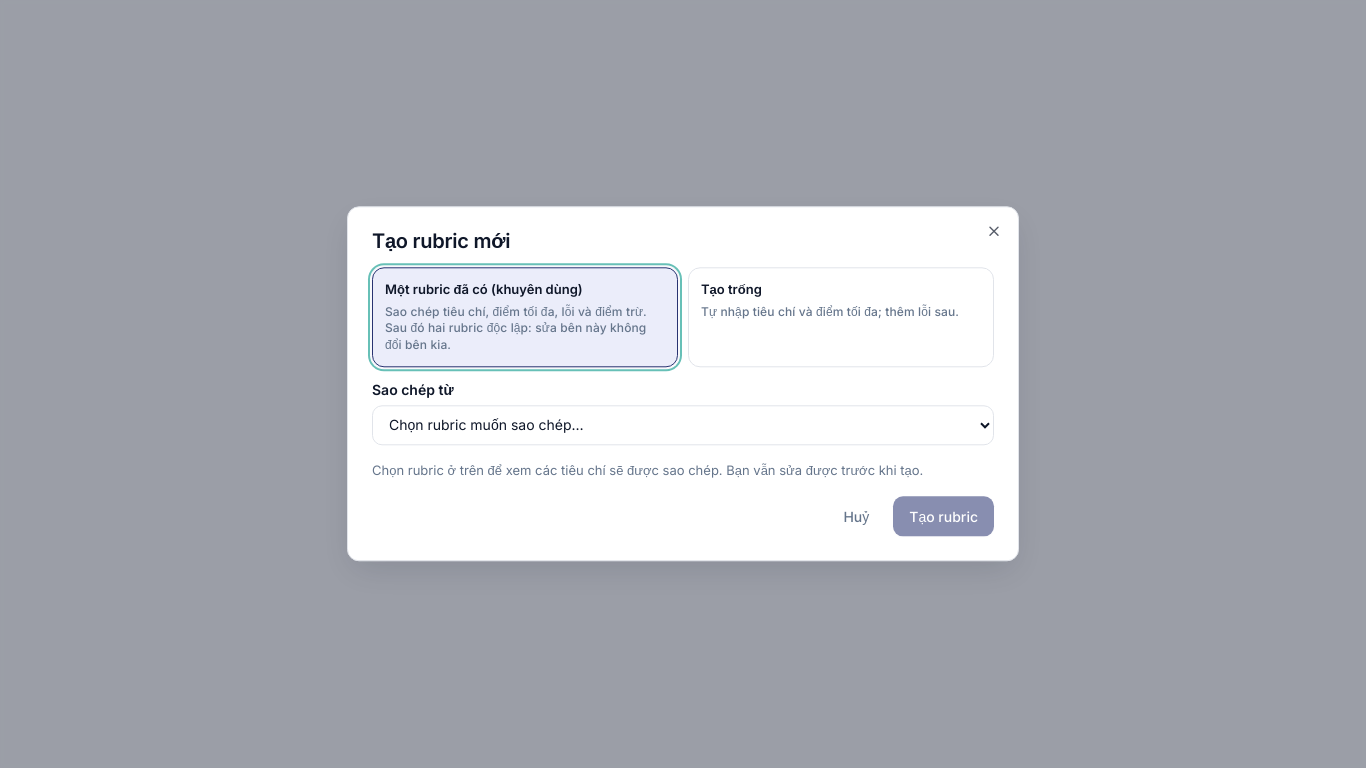
Test: RubricDialog — tạo rubric mới › đã có rubric khác: sao chép (D3) › chọn "Tạo trống": bỏ ô nguồn, bảng tiêu chí trống, hiện chọn môn học
This screenshot has width=1366, height=768.
Click the button "Tạo trống Tự nhập tiêu chí và điểm tối đa; thêm lỗi sau." at (841, 317), box [688,267,994,367]
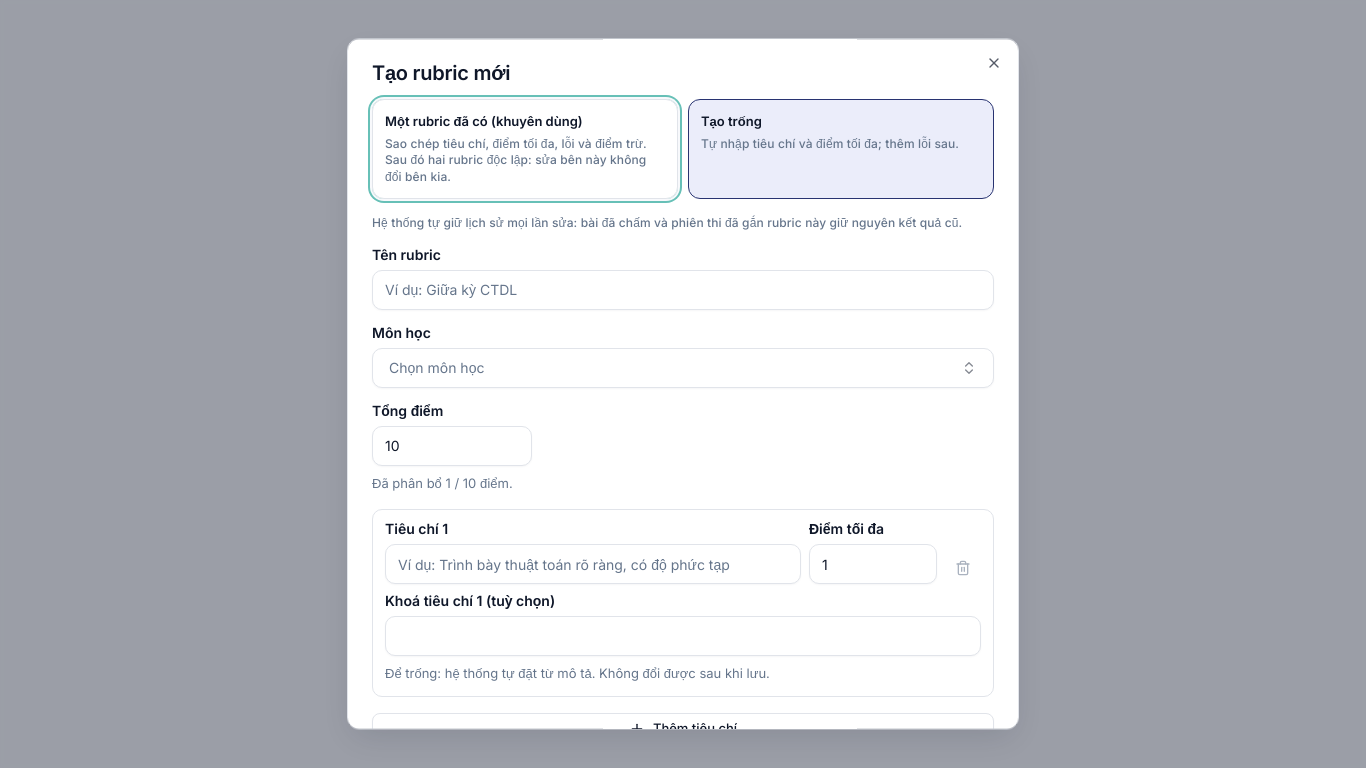
Now the label labelled "Sao chép từ" is gone
Now the field labelled "Tiêu chí 1" is empty, box [385,545,801,585]
Now the dropdown labelled "Chọn môn học" is shown, box [372,348,994,388]
